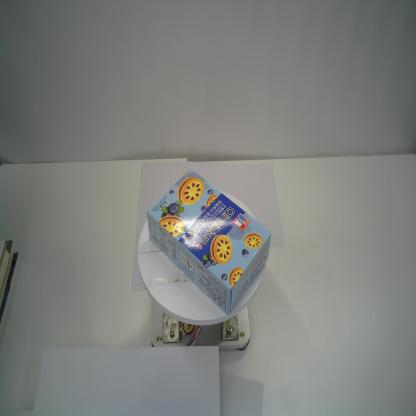Dessert: (146, 167, 272, 315)
